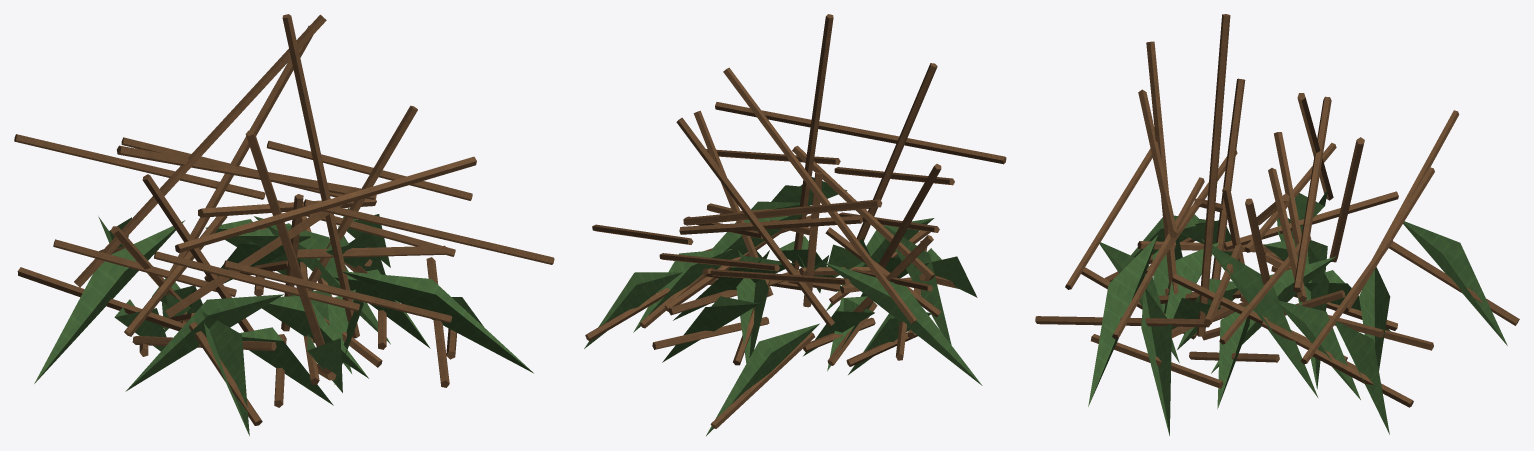
Rendered from en-013_cliff_edge_grass_set__short.obj.
3 renders of one model, left to right at view 1: azimuth 30°, elevation 25°; view 2: azimuth 150°, elevation 25°; view 3: azimuth 270°, elevation 25°, orthographic. The views are drawn at different scales.
Visible parts, largest first — view 1: en-013_cliff_edge_grass_set__short; view 2: en-013_cliff_edge_grass_set__short; view 3: en-013_cliff_edge_grass_set__short.
Part boxes in pixels (x1,y1,x2,y2): en-013_cliff_edge_grass_set__short: (14, 14, 554, 435); en-013_cliff_edge_grass_set__short: (584, 14, 1006, 435); en-013_cliff_edge_grass_set__short: (1035, 14, 1519, 435).
Bounding box in the file's own units: 0.749 × 0.5945 × 0.7742.
2 materials, 2 textured.
